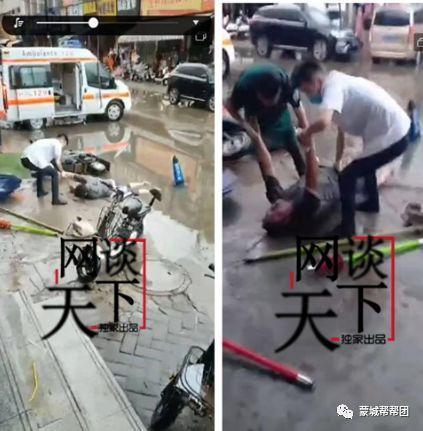Fall-Detected: (251, 113, 354, 234)
